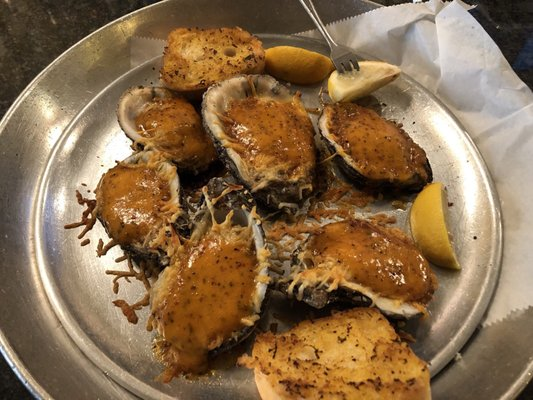salad: (298, 0, 400, 103)
sushi: (5, 4, 530, 400)
